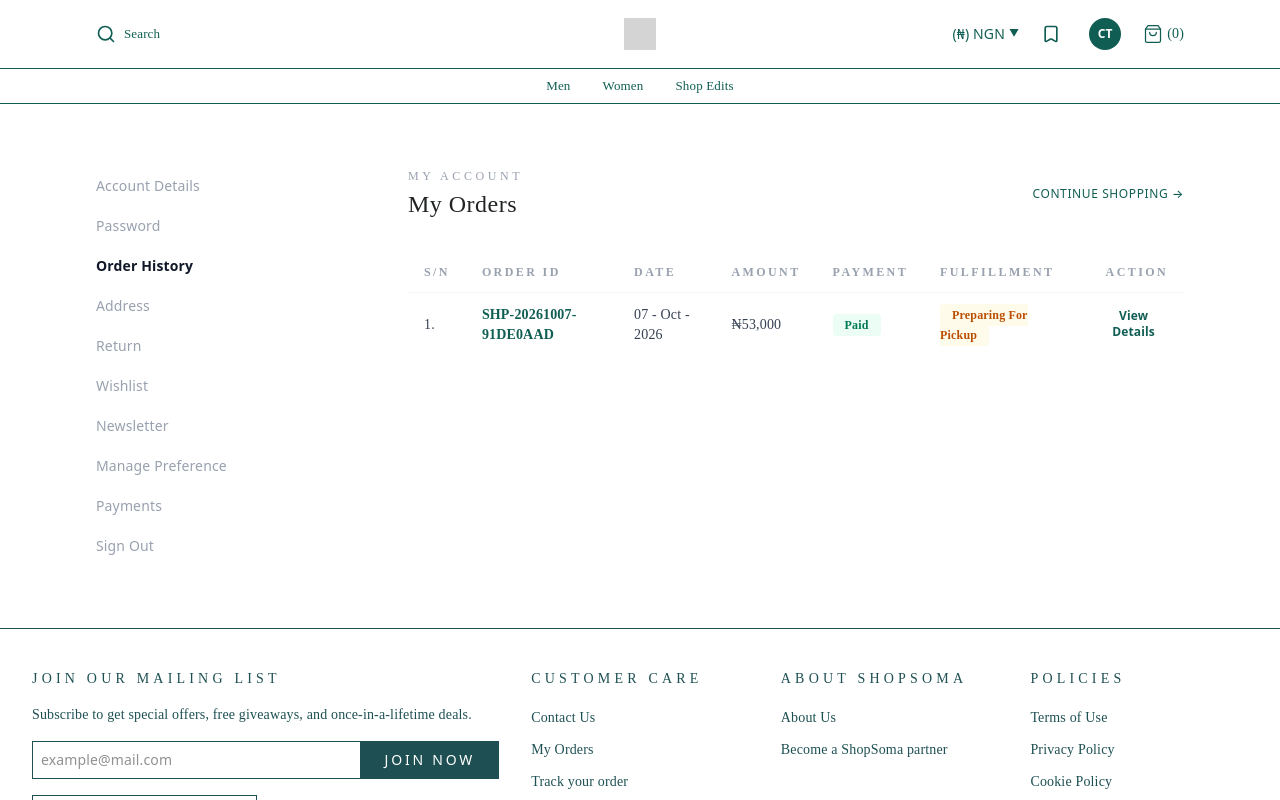
Test case: ProfileOrders › opens order details modal when clicking View Details or table row
Expected: the text "SHP-20261007-91DE0AAD" is shown, [466,293,618,357]
Click the button "View Details" at (1134, 324), box [1099,308,1168,340]
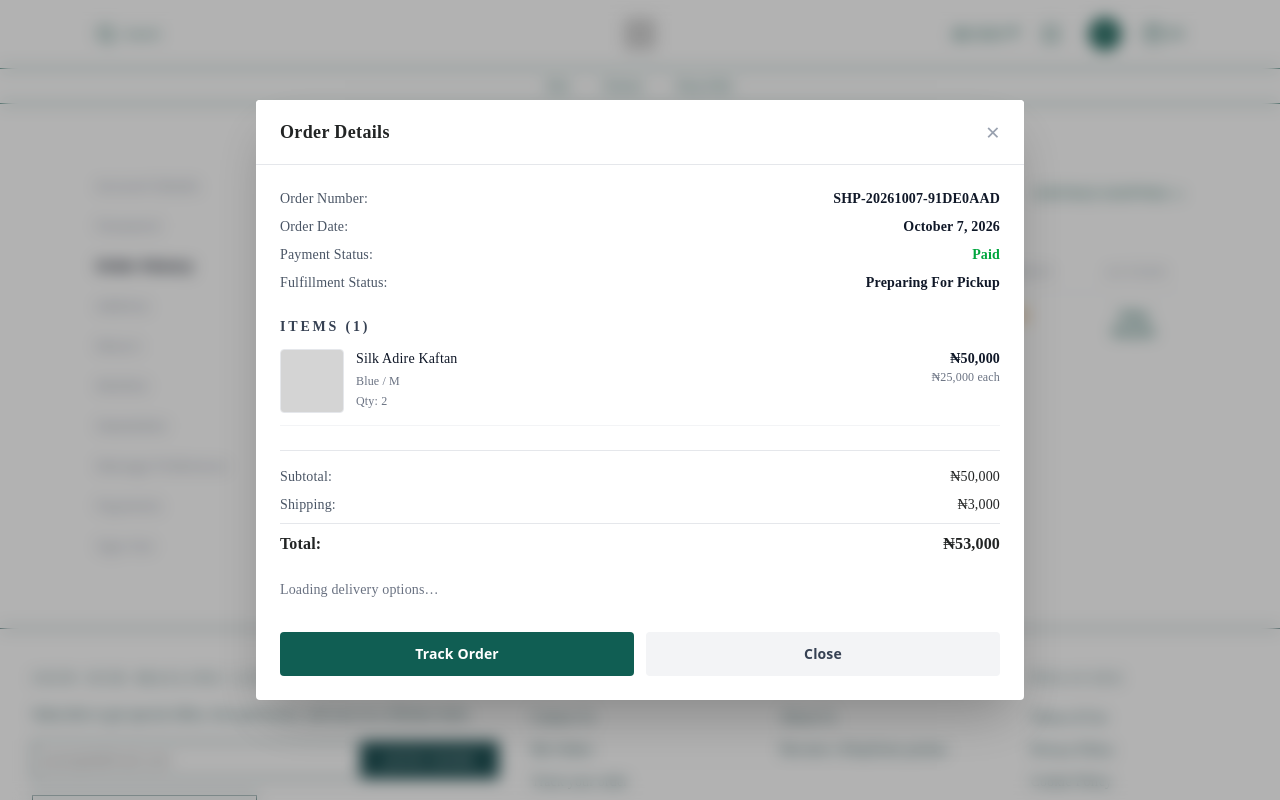
Expected: the heading "Order Details" is shown, [280,118,390,146]
Expected: the text "Silk Adire Kaftan" is shown, [356,351,458,366]
Expected: the text "Blue / M" is shown, [356,374,400,388]
Note: Close modal
Click the button named "Close" at (993, 132), box [986,116,1000,148]
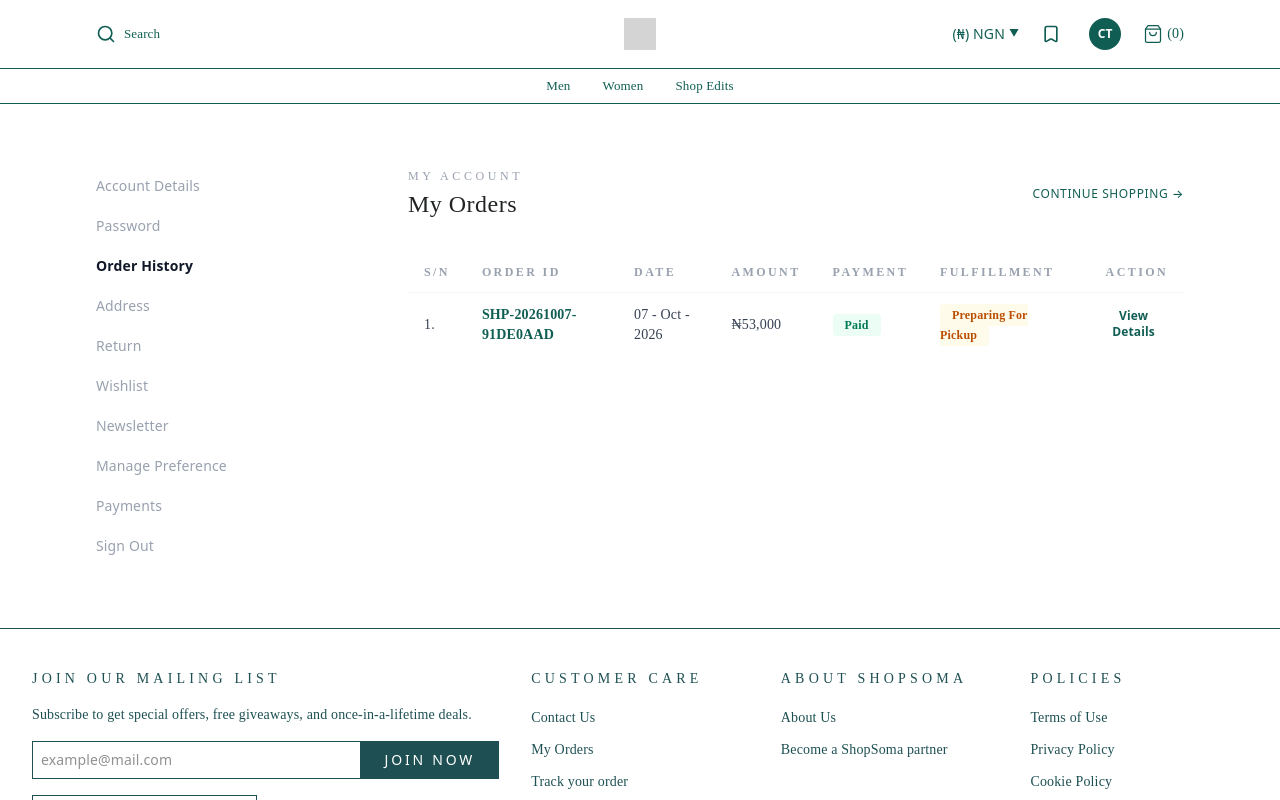
Expected: the heading "Order Details" is gone
